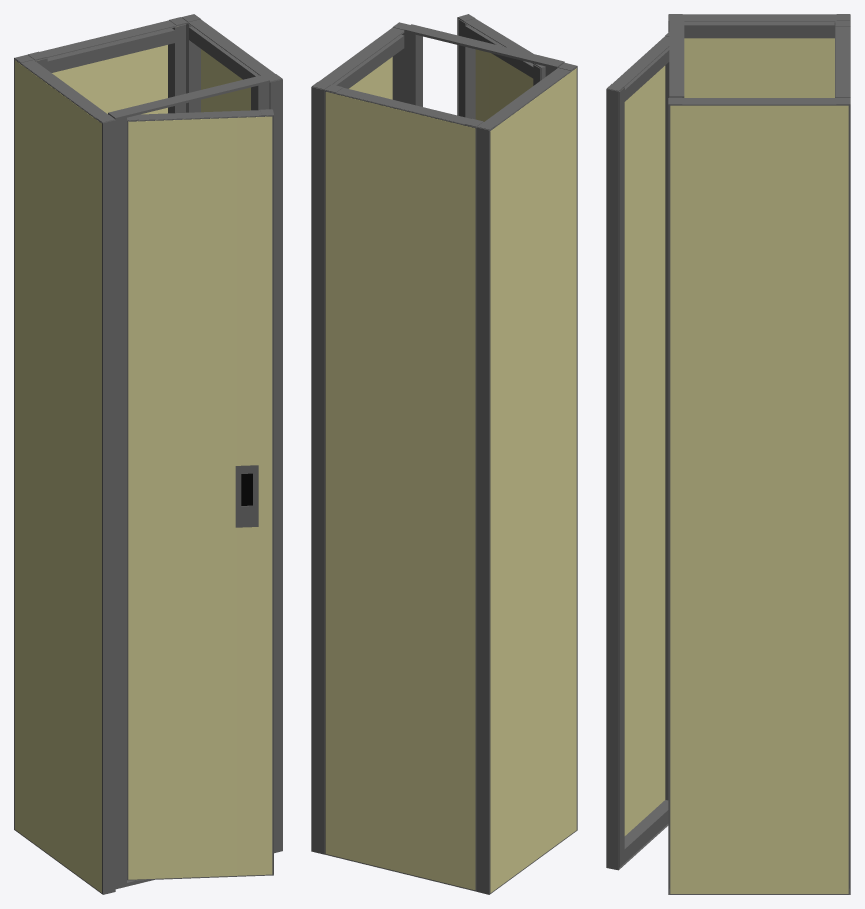
File: Storage Half.glb
3 views of the same model, side by side, from view 1: azimuth 30°, elevation 25°; view 2: azimuth 150°, elevation 25°; view 3: azimuth 270°, elevation 25° (orthographic). The views are drawn at different scales.
Parts seen in each view (by area): view 1: Door HalfPanel.003, Standard 19.005, Standard 19.004, Standard 19.003; view 2: Standard 19.003, Standard 19.005, Standard 19.004, Door HalfPanel.003; view 3: Standard 19.004, Door HalfPanel.003, Standard 19.005, Standard 19.003.
Boxes of the visible parts, x1=… form: Door HalfPanel.003: x1=108, y1=75, x2=273, y2=889; Standard 19.005: x1=14, y1=55, x2=115, y2=894; Standard 19.004: x1=181, y1=14, x2=282, y2=853; Standard 19.003: x1=27, y1=17, x2=188, y2=114; Standard 19.003: x1=324, y1=84, x2=483, y2=891; Standard 19.005: x1=477, y1=62, x2=577, y2=894; Standard 19.004: x1=311, y1=22, x2=409, y2=854; Door HalfPanel.003: x1=404, y1=14, x2=564, y2=121; Standard 19.004: x1=668, y1=97, x2=850, y2=894; Door HalfPanel.003: x1=606, y1=19, x2=684, y2=870; Standard 19.005: x1=668, y1=14, x2=850, y2=97; Standard 19.003: x1=835, y1=20, x2=850, y2=97.
Bounding box in the file's own units: 0.577 × 2.37 × 0.6621.
